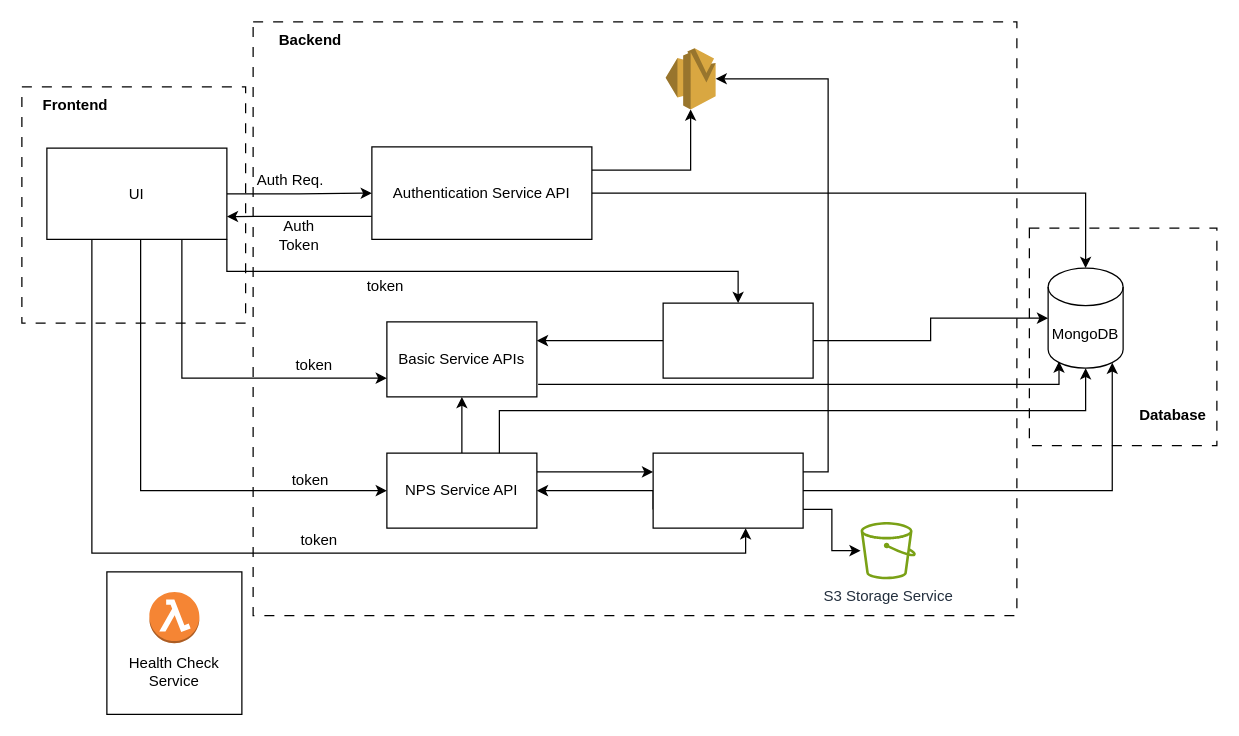
Some shapes in this 1239 by 736 pixel diagram are drawn without their labels. The shapes that lost their labels are listed below. From the top down, each one's centre as x and y in pixels, then its label:
At [690,78]: "Email Service (SES)".
At [737,340]: "Student Service API".
At [727,490]: "Reporting Service API".
